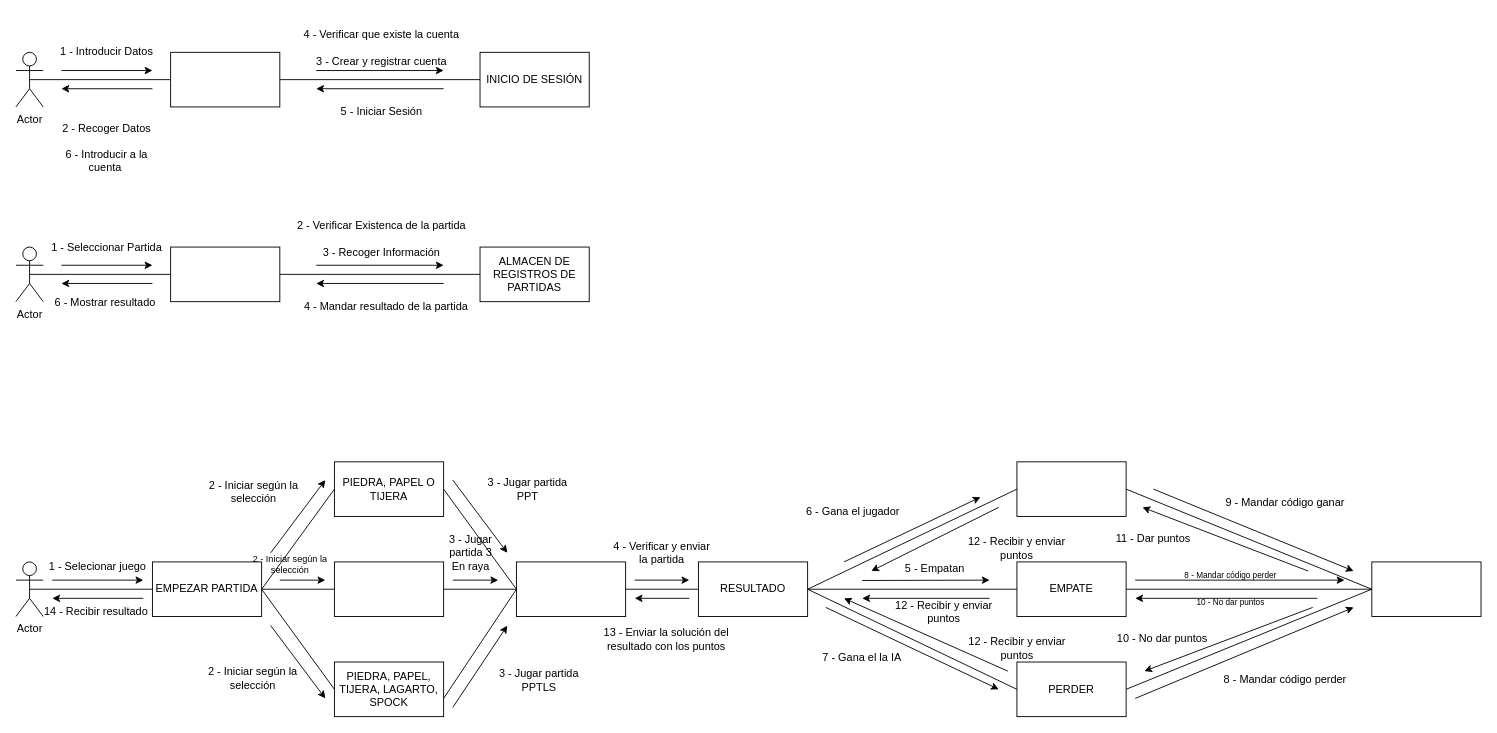
The diagram is 1497 pixels wide and 733 high, and some of its shapes have lost their labels. Each missing label, with the centre of its shape:
"3 EN RAYA" goes at point (389, 589).
"CONSULTAR PARTIDA" goes at point (225, 274).
"CREAR CUENTA" goes at point (225, 79).
"GANAR" goes at point (1071, 488).
"PARTICIPAR PARTIDA" goes at point (571, 589).
"PUNTOS" goes at point (1426, 589).
